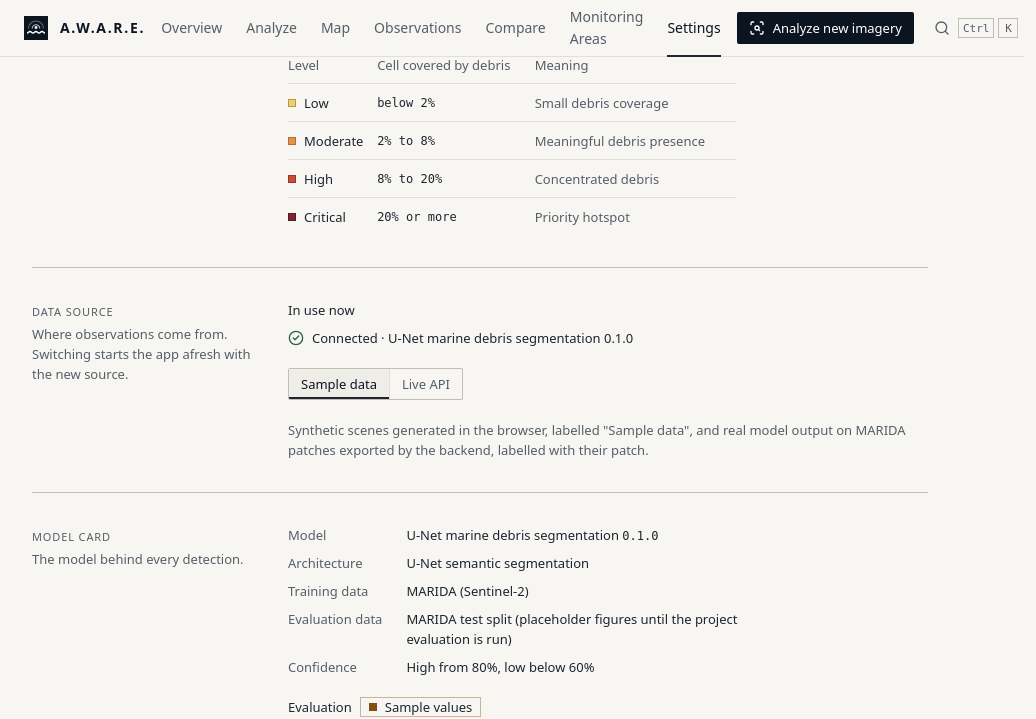
Test case: Settings page › checks the address before testing it
(page scrolled)
Click the radio button labelled "Live API": (425, 384) [389,369,462,399]
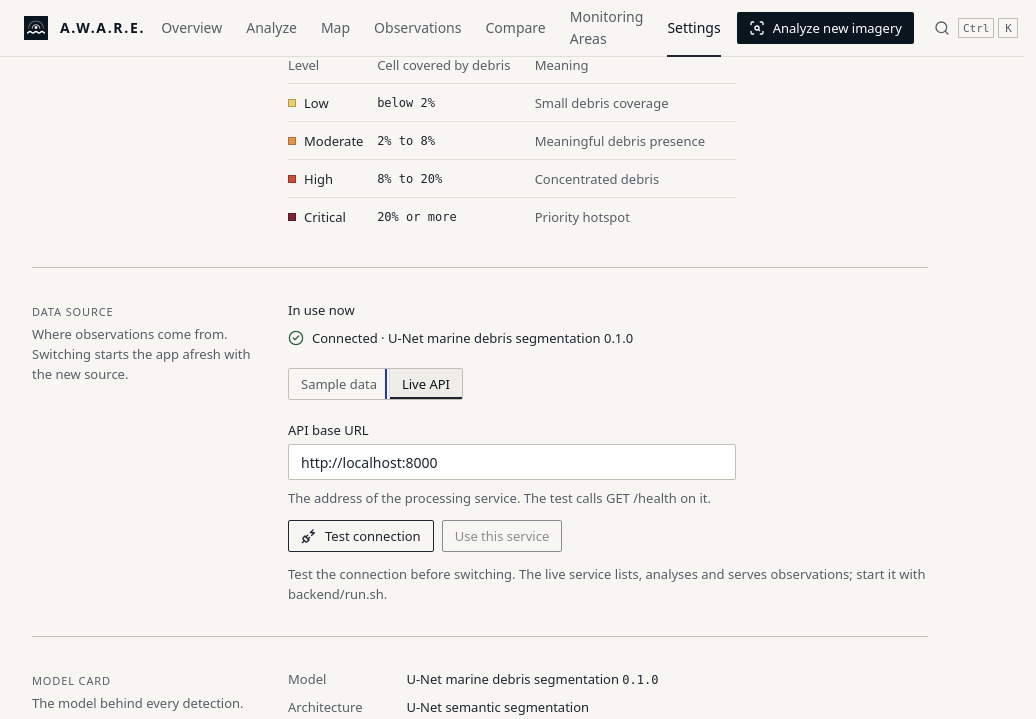
Replace the text in the field labelled "API base URL" with "api.example.org": (512, 462) [288,444,736,480]
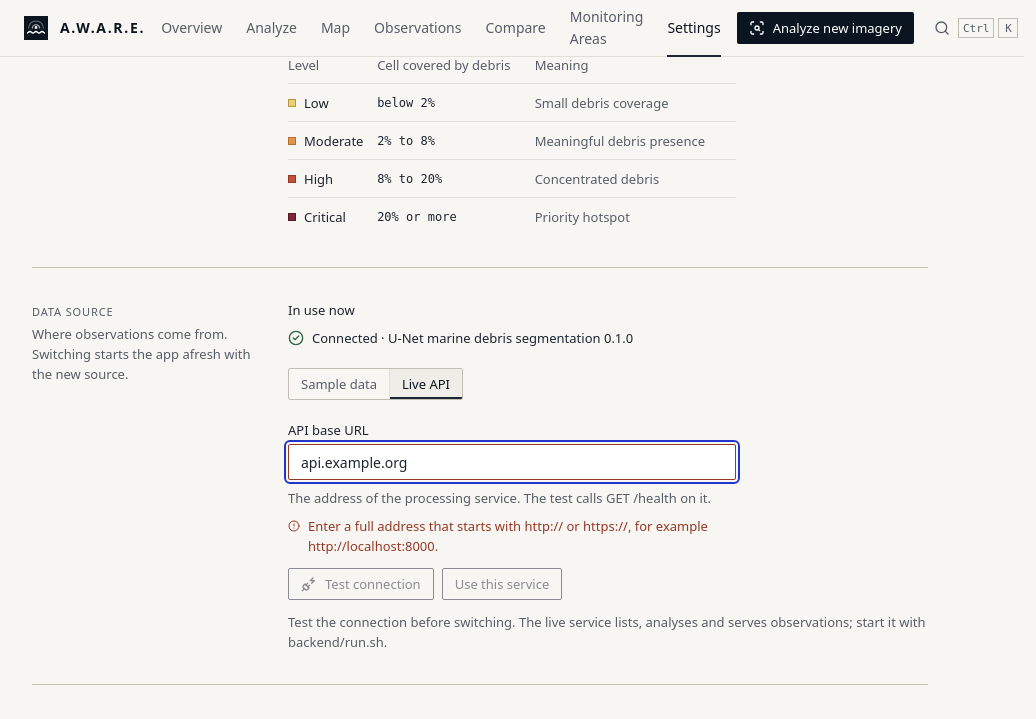
Check: the button "Test connection" is disabled, box [288,568,434,600]
Check: the text "http://" is shown, box [308,517,708,555]
